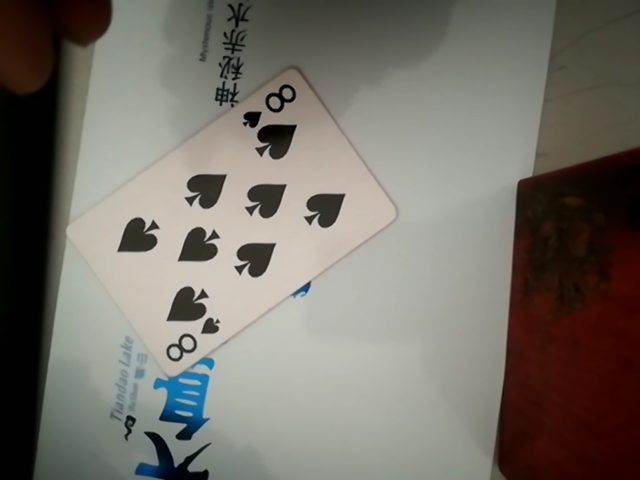ht 8: (74, 68, 398, 377)
